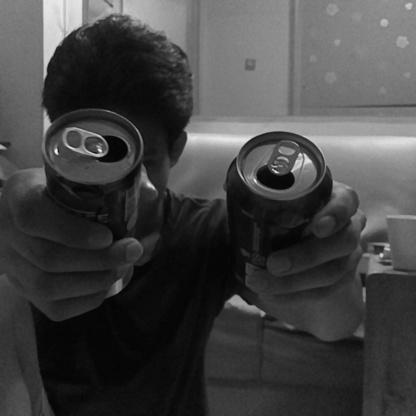alumunium_can: (223, 129, 332, 302), (41, 106, 142, 245)
